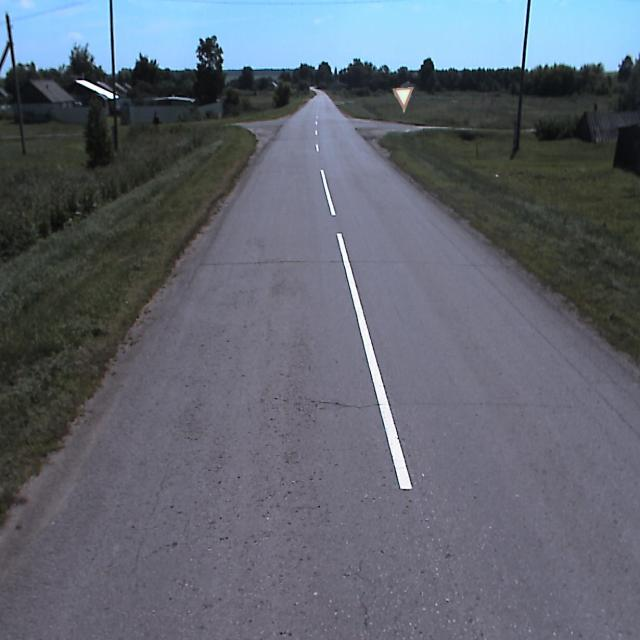road: (0, 92, 639, 639)
